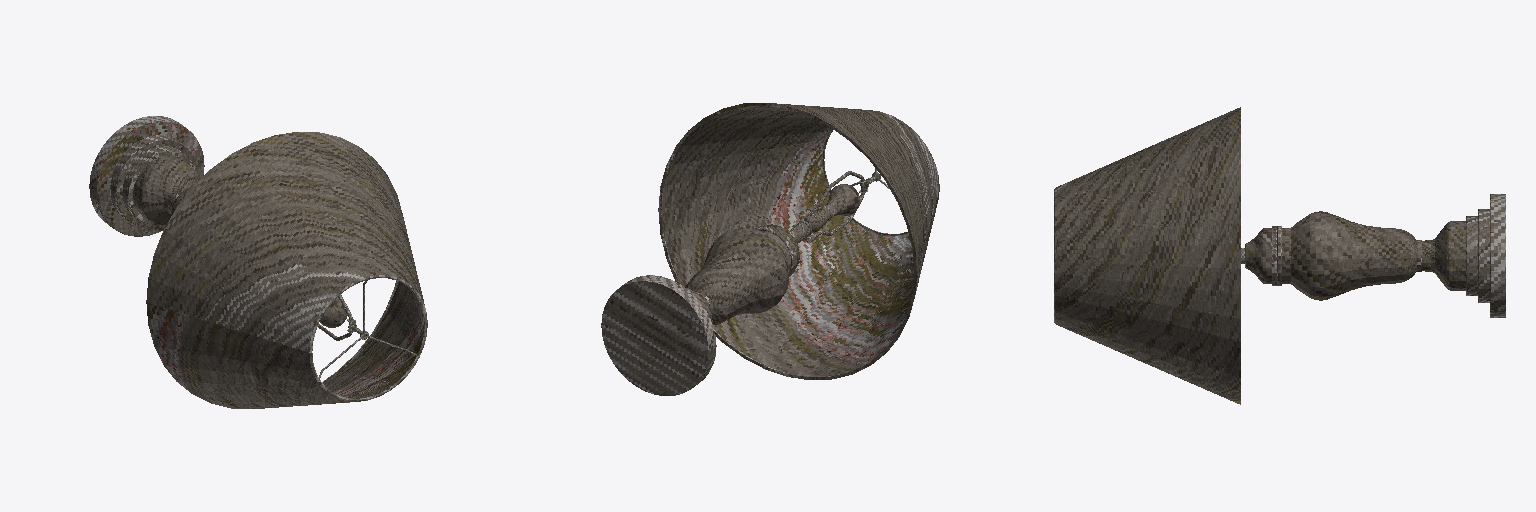
The picture shows the model from 3 angles: view 1: azimuth 30°, elevation 25°; view 2: azimuth 150°, elevation 25°; view 3: azimuth 270°, elevation 25°; orthographic projection.
Visible parts, largest first — view 1: lamp; view 2: lamp; view 3: lamp.
Part boxes in pixels (x1,y1,x2,y2): lamp: (89,116,427,408); lamp: (601,103,939,395); lamp: (1054,107,1505,404).
Size of the model in its own units: 0.2767 by 0.2767 by 0.4182.
Materials: 1 (1 with a texture image).